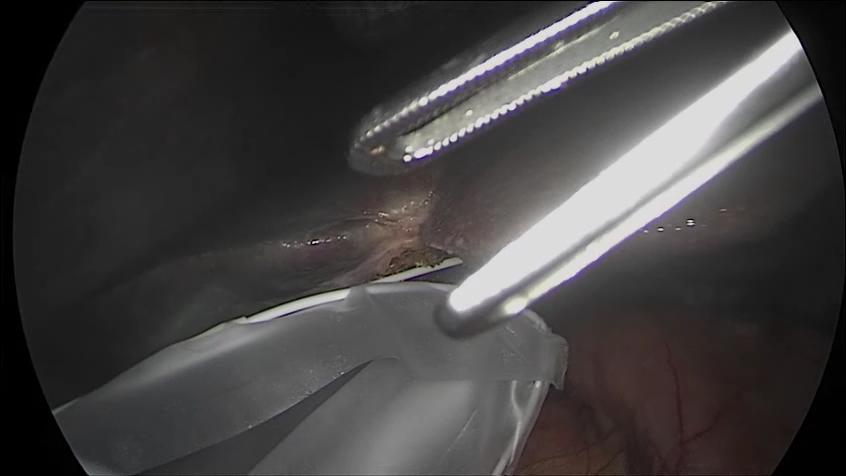Grasper: (326, 16, 780, 330)
SpecimenBag: (64, 257, 569, 455)
